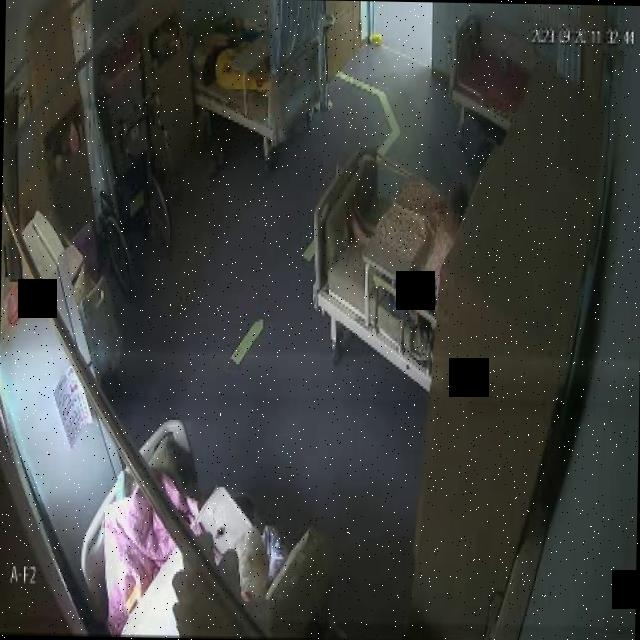bed: (78, 416, 322, 640), (308, 146, 436, 394), (194, 34, 322, 173), (446, 2, 514, 142)
